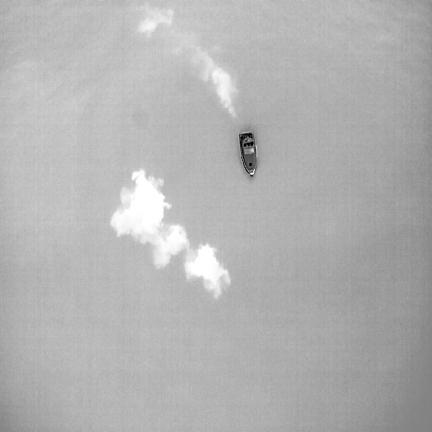flukeprints: (111, 170, 170, 243), (184, 245, 230, 297), (155, 225, 188, 266)
